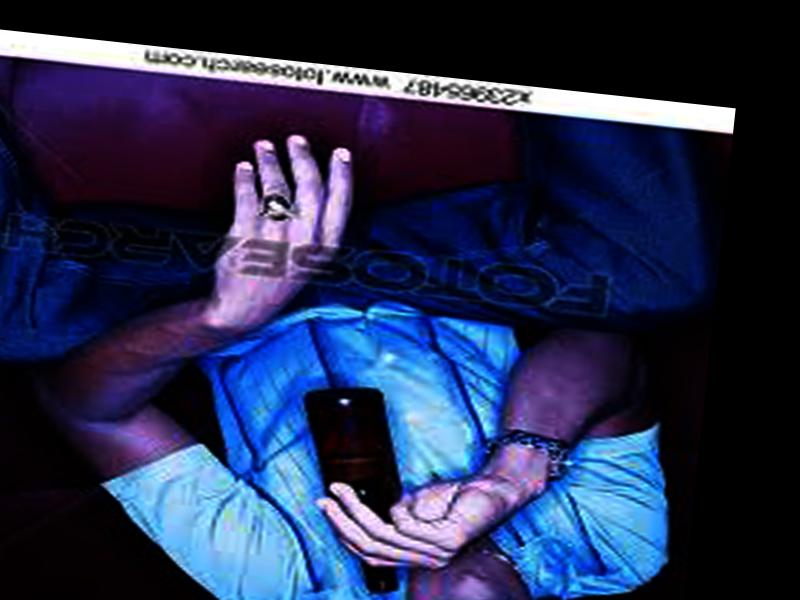Beer: (281, 382, 419, 595)
